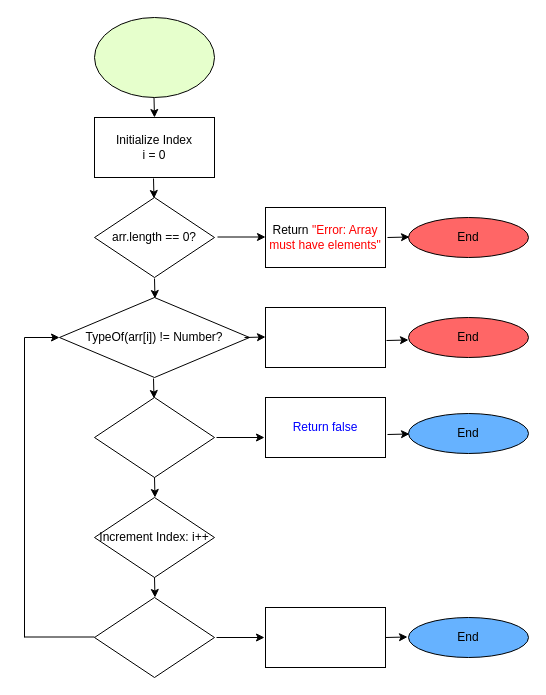
Some shapes in this 546 by 695 pixel diagram are drawn without their labels. Here are the shapes that lost their labels. From the top down, the centre of each, then its label:
(154,57): Start (arr)
(325,337): Return "Error: Contains non-numeric values"
(154,437): arr[i] % 2 != 0?
(154,637): i < arr.length?
(325,637): Return true
